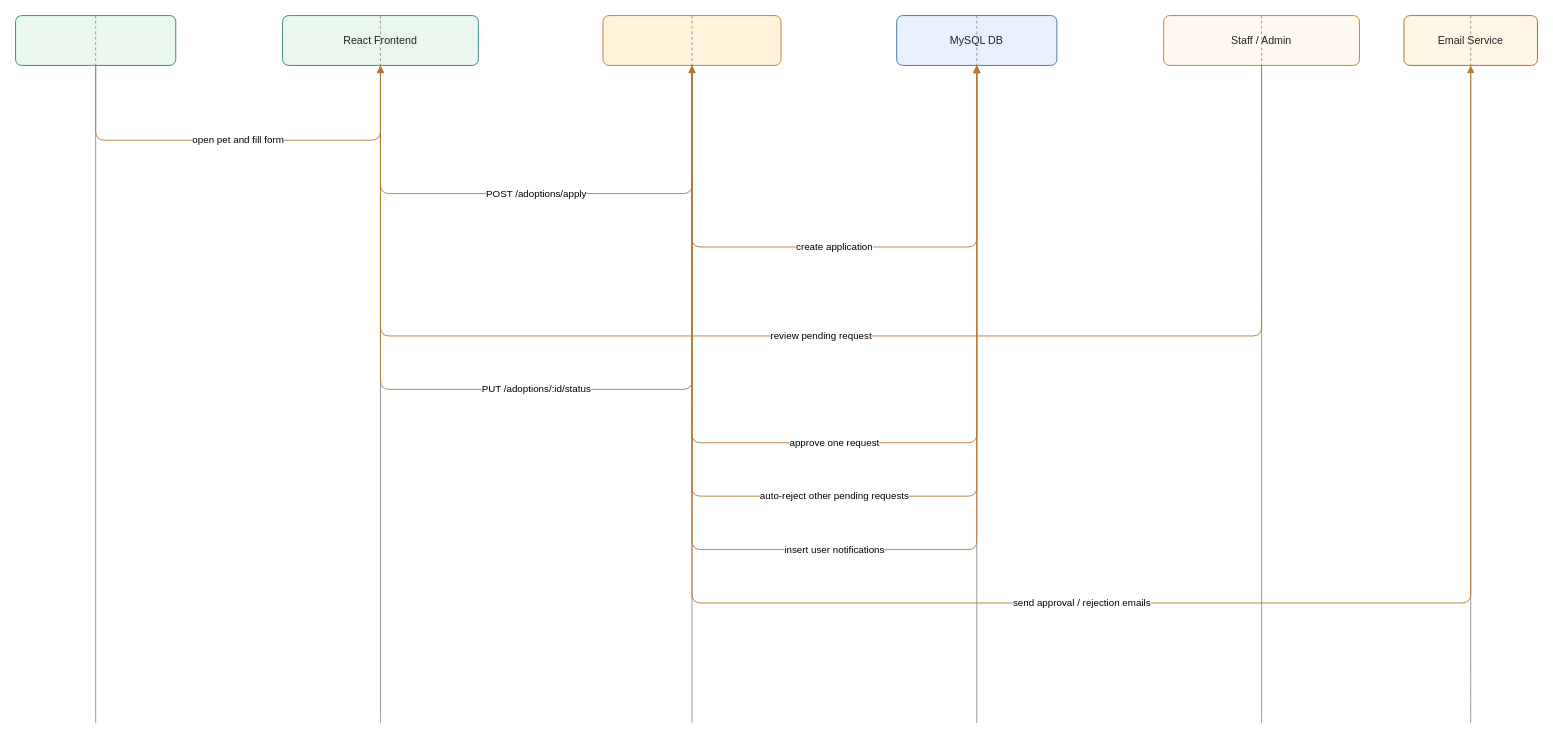
Some shapes in this 1553 by 744 pixel diagram are drawn without their labels. The shapes that lost their labels are listed below. From the top down, each one's centre as x and y in pixels, then its label:
At point (95, 40): "User".
At point (691, 40): "Express API".
